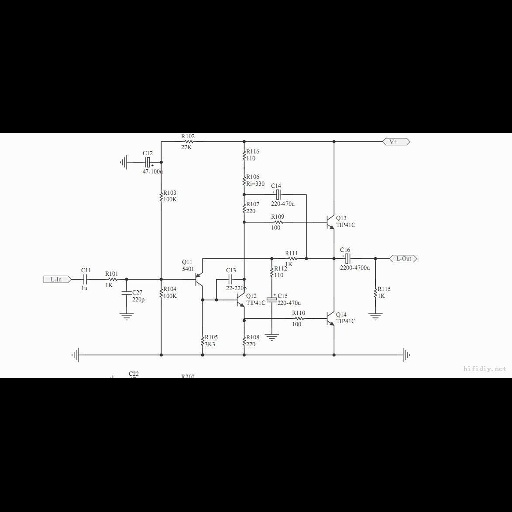capacitor: (119, 288, 133, 298), (225, 273, 236, 285), (81, 274, 90, 285)
gnd: (116, 150, 128, 172), (69, 346, 80, 364), (402, 346, 412, 365), (117, 312, 136, 321), (367, 312, 386, 321), (263, 333, 281, 342)
npn: (321, 211, 336, 233), (323, 307, 336, 332)
pnp: (190, 272, 206, 288)
secondpolarcapacitor: (141, 155, 154, 168), (271, 188, 284, 200), (341, 252, 353, 265), (265, 292, 278, 304)
secondresistance: (239, 147, 247, 164), (239, 173, 247, 189), (179, 138, 199, 144), (157, 189, 164, 206), (157, 286, 164, 301), (267, 265, 274, 280), (271, 219, 288, 225), (104, 276, 120, 282), (241, 334, 247, 350), (285, 255, 301, 261), (291, 316, 307, 322), (371, 285, 377, 301), (199, 334, 205, 349), (240, 201, 246, 216)
